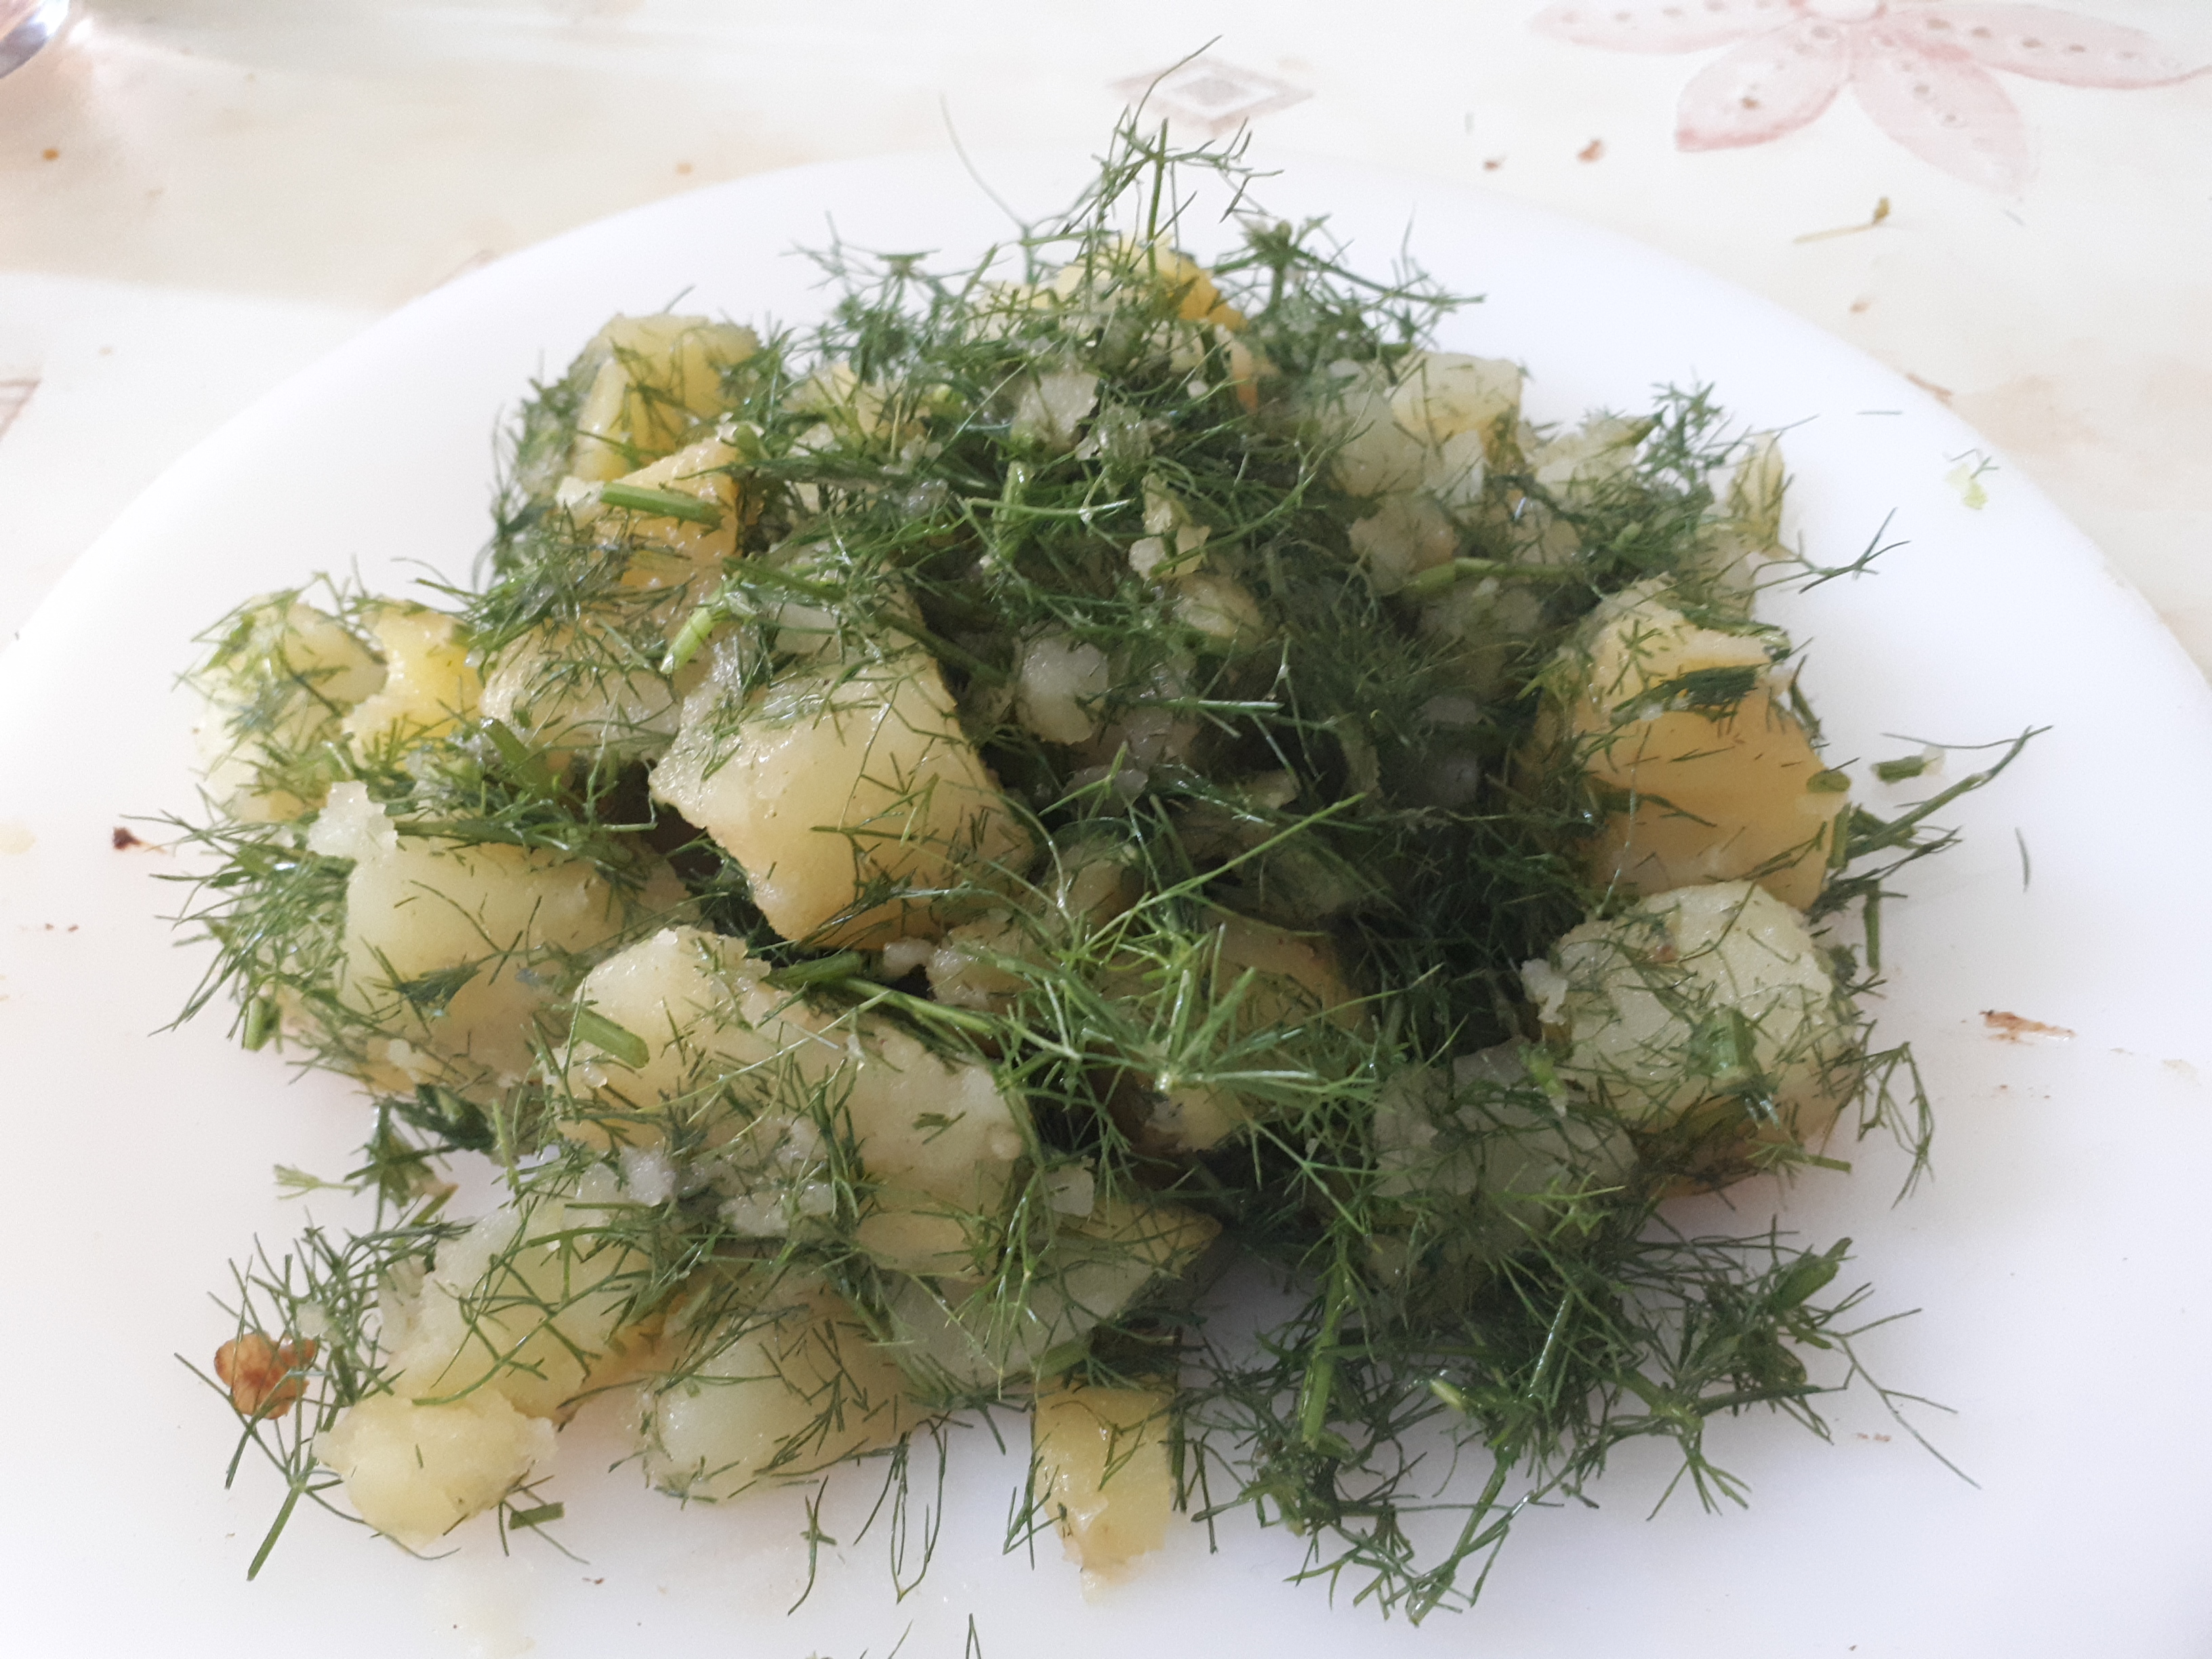boiled potatoes: (348, 336, 1865, 1443)
